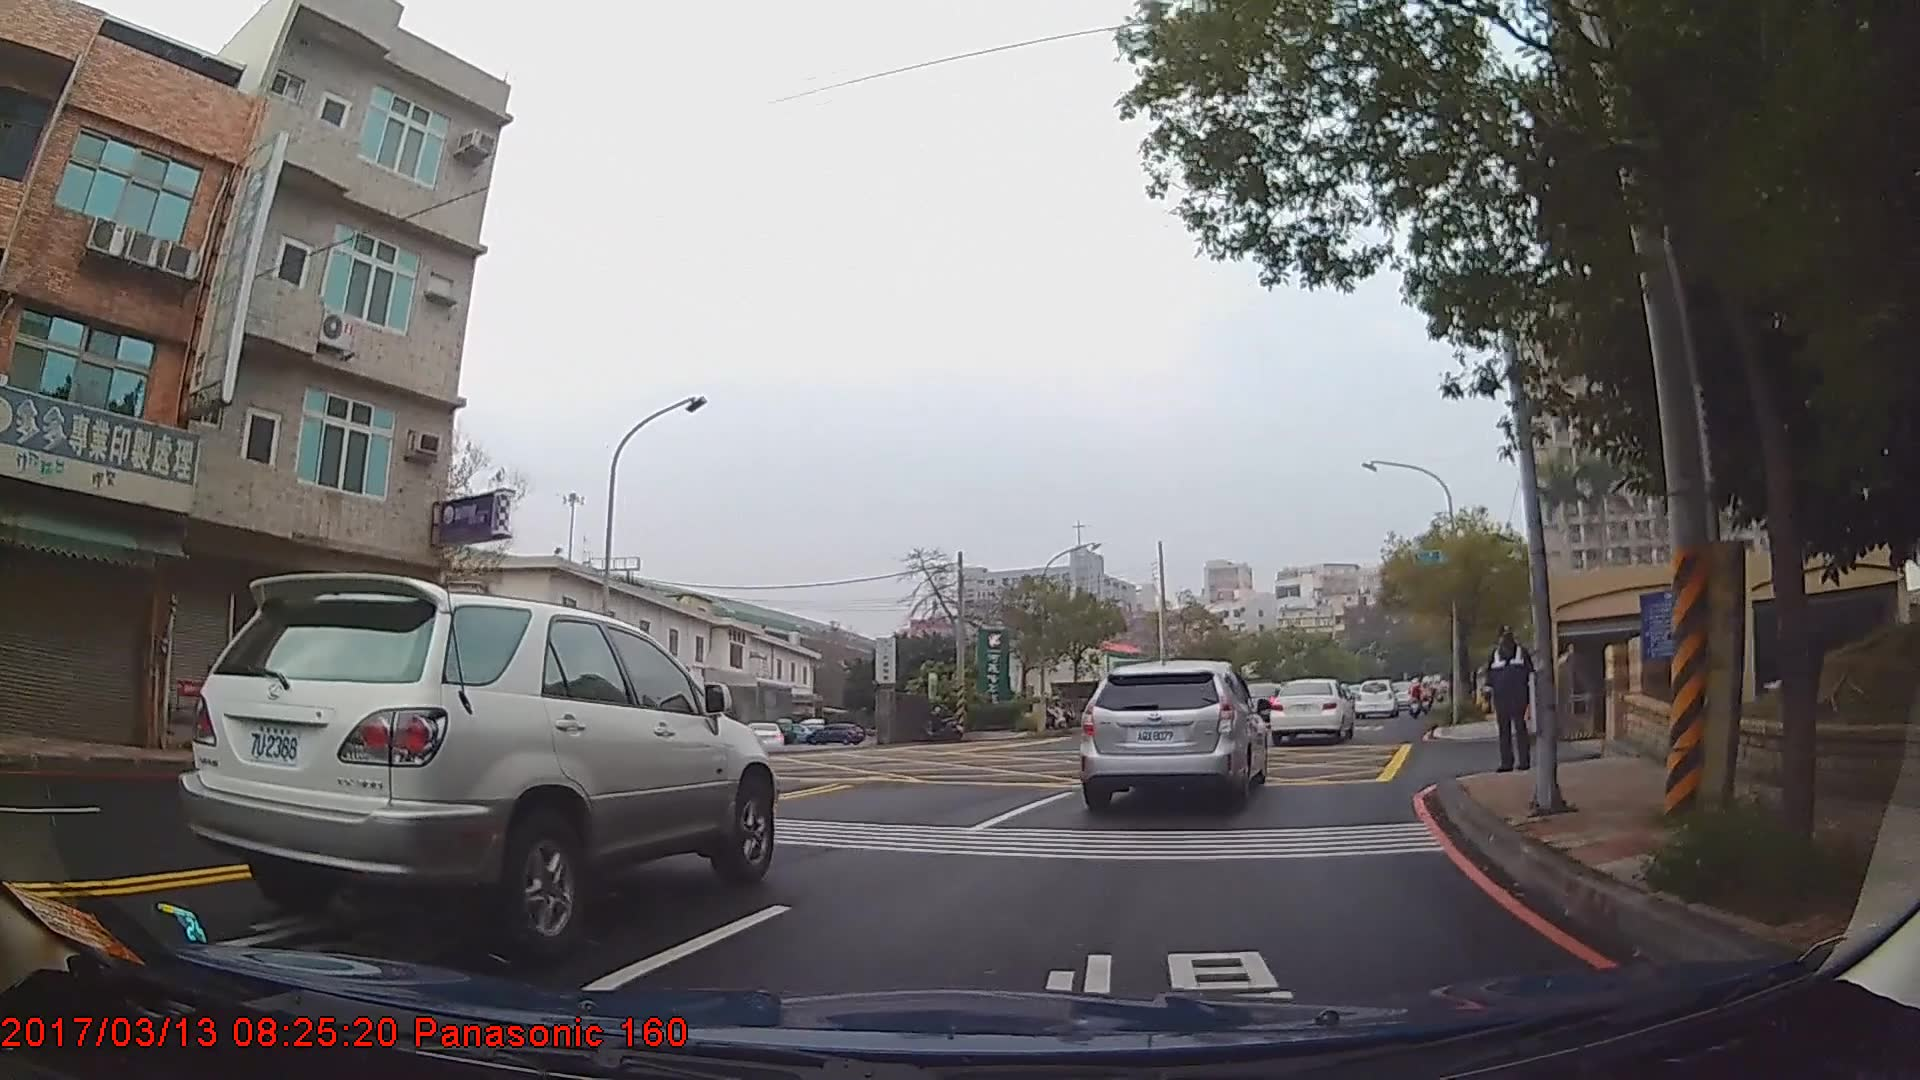pedestrian: (1482, 623, 1541, 771)
vehicle: (177, 567, 779, 952), (1076, 655, 1267, 820), (1265, 674, 1352, 740), (1352, 678, 1399, 721), (803, 720, 865, 742)
